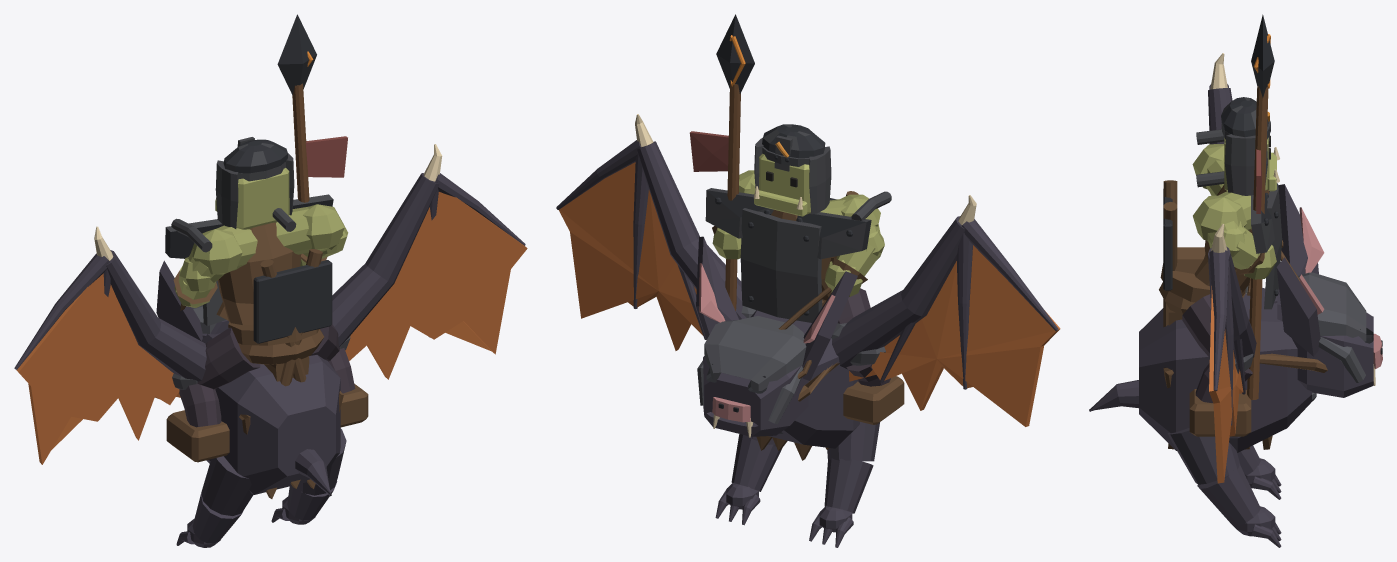
The model's file is host_42.glb.
3 views of the same model, side by side, from view 1: azimuth 30°, elevation 25°; view 2: azimuth 150°, elevation 25°; view 3: azimuth 270°, elevation 25° (orthographic). The views are drawn at different scales.
Parts seen in each view (by area): view 1: V6 source mounted closed scalloped membrane R, V6 source mounted closed scalloped membrane L, V6 mount continuous anatomical thorax, V6 source mounted wing shoulder elbow wrist bone R, V6 source contacting small rear armor plate, V6 source mounted wing shoulder elbow wrist bone L, V6 rider source seated thorax, Observed face, Grounded boot L, V6 bat actual contacting hind thigh L, V6 rider actual connected seated thigh L, V6 Fire Lancer actual whole forged iron rune pike (+23 smaller); view 2: V6 source mounted closed scalloped membrane L, V6 source mounted closed scalloped membrane R, V6 source curved fitted breastplate, V6 source mounted wing shoulder elbow wrist bone L, V6 bat source fitted metal forehead shell, V6 source mounted wing shoulder elbow wrist bone R, V6 mount continuous anatomical thorax, V6 bat source short faceted cranium, Grounded boot L, V6 source angled fitted shoulder plate L, V6 bat actual hind shin and ankle L, V6 source continuous held spear shaft (+21 smaller); view 3: V6 mount continuous anatomical thorax, V6 bat source short faceted cranium, V6 source mounted closed scalloped membrane R, V6 bat source fitted metal forehead shell, V6 bat source tall pointed anatomical ear.001, V6 source continuous held spear shaft, V6 bat actual contacting hind thigh R, V6 bat actual hind shin and ankle R, V6 mounted knight actual continuous cap contacting cheek tem, V6 source actual membrane finger R, V6 bat source tall pointed anatomical ear, Grounded boot R (+34 smaller).
Part boxes in pixels (x1,y1,x2,y2): V6 source mounted closed scalloped membrane R: [345, 192, 527, 379]; V6 source mounted closed scalloped membrane L: [16, 273, 180, 464]; V6 mount continuous anatomical thorax: [201, 333, 340, 494]; V6 source mounted wing shoulder elbow wrist bone R: [332, 173, 439, 346]; V6 source contacting small rear armor plate: [253, 260, 332, 343]; V6 source mounted wing shoulder elbow wrist bone L: [106, 250, 206, 381]; V6 rider source seated thorax: [217, 222, 301, 325]; Observed face: [236, 168, 289, 229]; Grounded boot L: [166, 410, 229, 462]; V6 bat actual contacting hind thigh L: [201, 456, 253, 515]; V6 rider actual connected seated thigh L: [197, 327, 260, 389]; V6 Fire Lancer actual whole forged iron rune pike: [277, 14, 316, 95]; V6 source mounted closed scalloped membrane L: [849, 245, 1060, 426]; V6 source mounted closed scalloped membrane R: [559, 162, 703, 350]; V6 source curved fitted breastplate: [740, 208, 822, 322]; V6 source mounted wing shoulder elbow wrist bone L: [832, 216, 965, 369]; V6 bat source fitted metal forehead shell: [704, 316, 806, 390]; V6 source mounted wing shoulder elbow wrist bone R: [637, 141, 746, 319]; V6 mount continuous anatomical thorax: [750, 310, 859, 448]; V6 bat source short faceted cranium: [703, 356, 808, 436]; Grounded boot L: [843, 376, 904, 424]; V6 source angled fitted shoulder plate L: [797, 212, 871, 259]; V6 bat actual hind shin and ankle L: [824, 458, 873, 513]; V6 source continuous held spear shaft: [725, 82, 740, 310]; V6 mount continuous anatomical thorax: [1139, 287, 1311, 452]; V6 bat source short faceted cranium: [1277, 289, 1373, 397]; V6 source mounted closed scalloped membrane R: [1209, 286, 1243, 483]; V6 bat source fitted metal forehead shell: [1282, 272, 1366, 341]; V6 bat source tall pointed anatomical ear.001: [1276, 257, 1320, 356]; V6 source continuous held spear shaft: [1247, 86, 1268, 399]; V6 bat actual contacting hind thigh R: [1167, 428, 1240, 484]; V6 bat actual hind shin and ankle R: [1197, 464, 1260, 526]; V6 mounted knight actual continuous cap contacting cheek tem: [1224, 134, 1267, 195]; V6 source actual membrane finger R: [1209, 250, 1228, 391]; V6 bat source tall pointed anatomical ear: [1278, 184, 1318, 275]; Grounded boot R: [1189, 389, 1251, 436].
Size of the model in its own units: 2.47 by 2.36 by 1.19.
